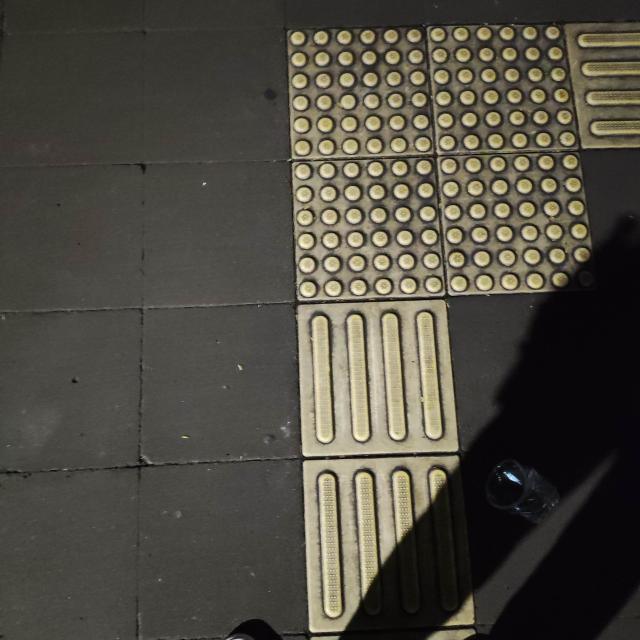kanan: (221, 0, 640, 441)
